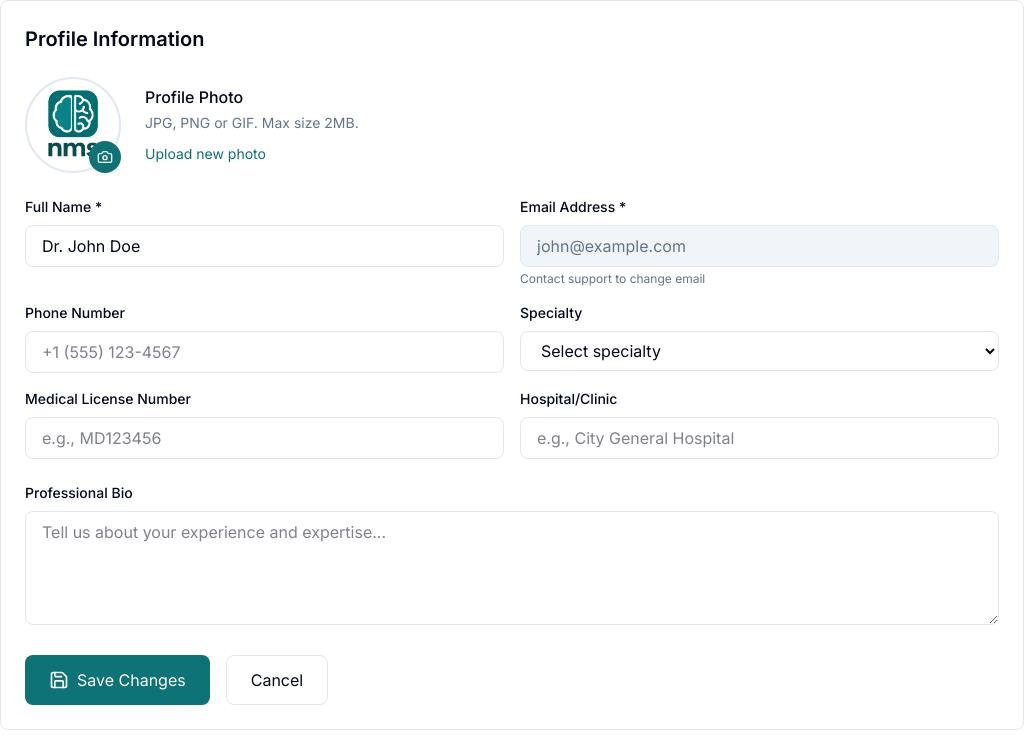
Scenario: ProfileSettings › should show error message on update failure
Click the button "Save Changes" at (117, 680), box [25,655,210,705]
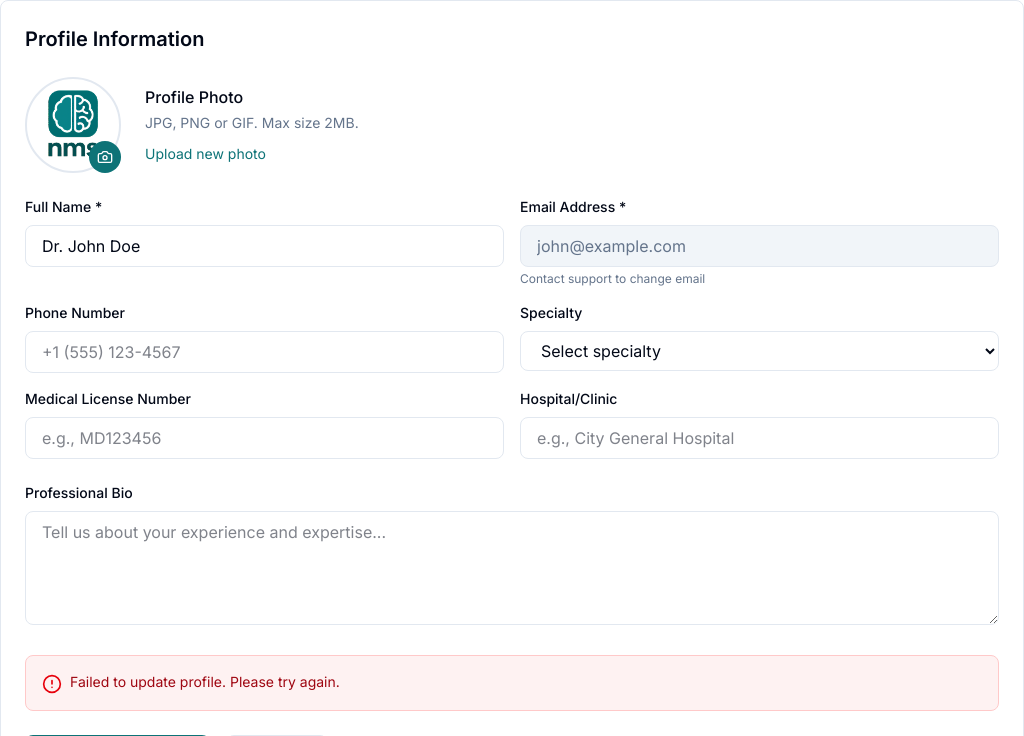
Now the text "Failed to update profile. Please try again." is shown, box [70,672,340,692]
